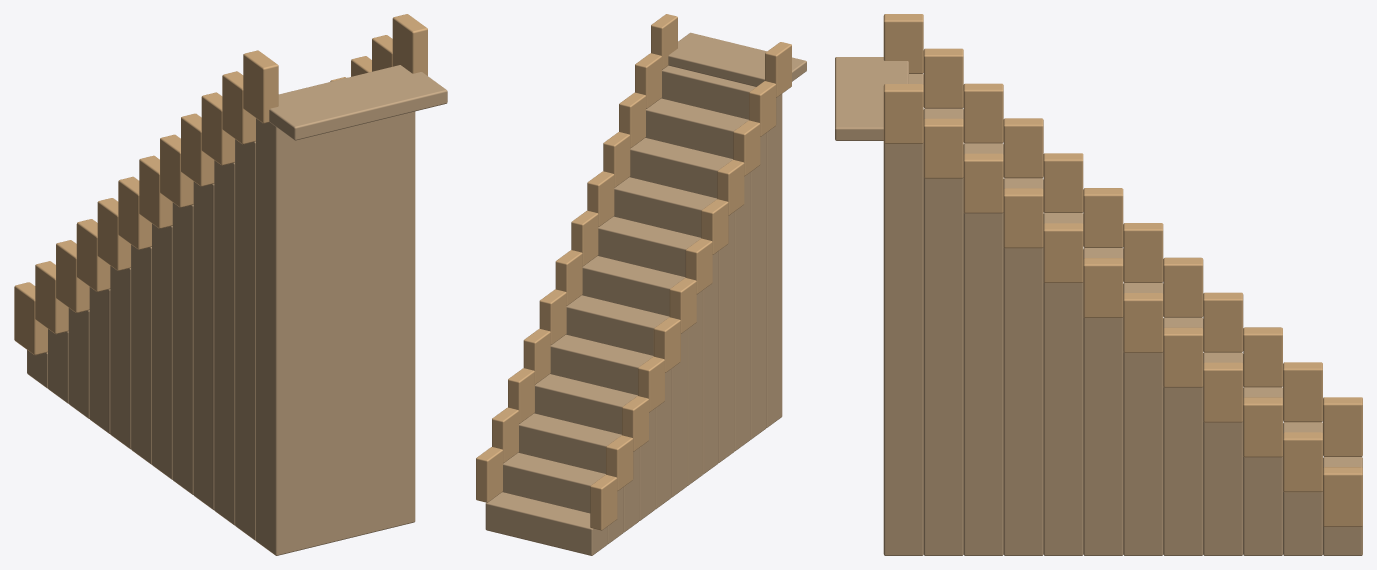
File: desert-caravanserai-and-bazaar-rooftop-stair-b3663080__30448.glb
The picture shows the model from 3 angles, left to right: view 1: azimuth 30°, elevation 25°; view 2: azimuth 150°, elevation 25°; view 3: azimuth 270°, elevation 25°; orthographic projection. The views are drawn at different scales.
Visible parts, largest first — view 1: rooftop-stair; view 2: rooftop-stair; view 3: rooftop-stair.
Boxes of the visible parts, x1,y1,x2,y2 form: rooftop-stair: (14, 14, 447, 555); rooftop-stair: (476, 14, 806, 555); rooftop-stair: (835, 14, 1362, 555).
Bounding box in the file's own units: 1.24 × 3.52 × 3.57.
